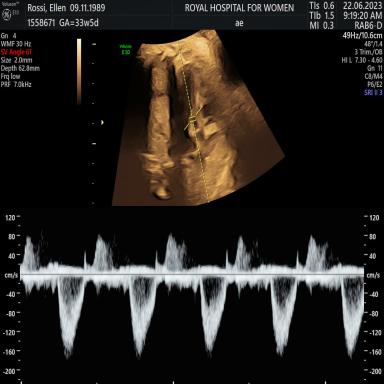Ultrasound-Waves: (26, 215, 364, 384)
